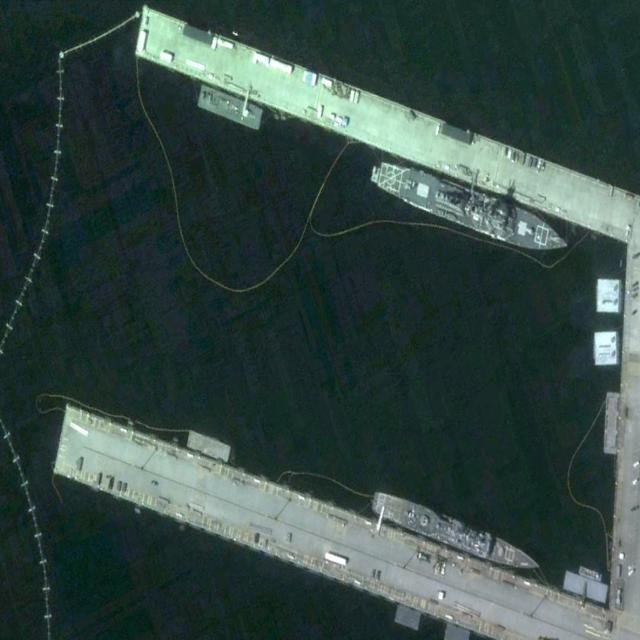Frigate: (370, 489, 542, 578)
Other Ship: (376, 154, 570, 264)
